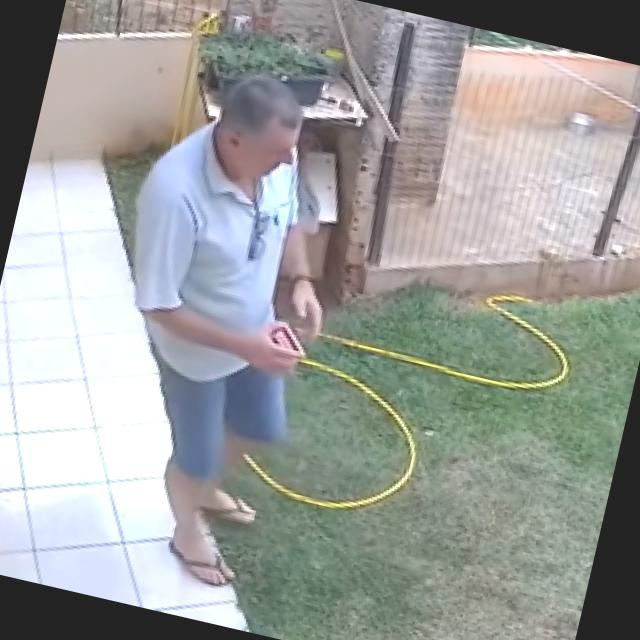person: (53, 44, 380, 602)
